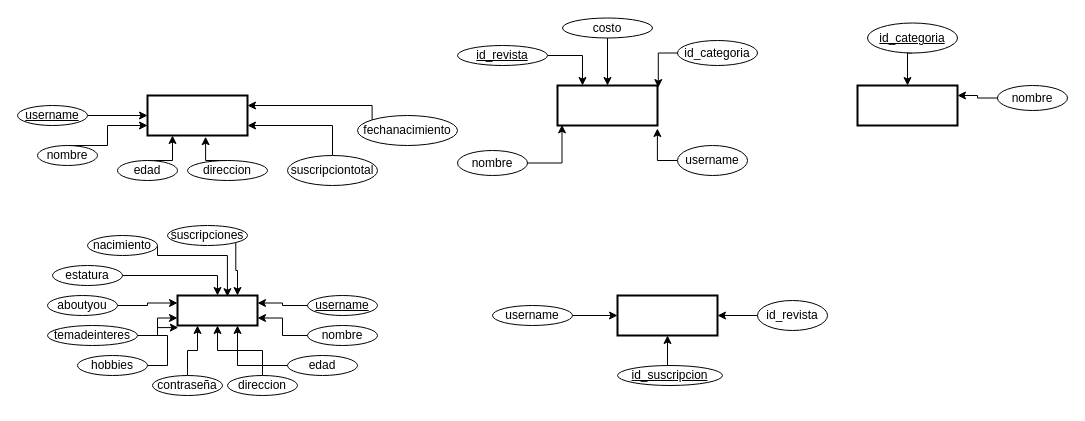
Image size: 1085x421. Some labels were removed from this diagram. Each missing label, with the box of its shape:
categoria: (856, 84, 958, 126)
editor: (146, 94, 248, 136)
revista: (556, 84, 658, 126)
suscripcion: (616, 294, 718, 336)
usuario: (176, 294, 258, 326)
